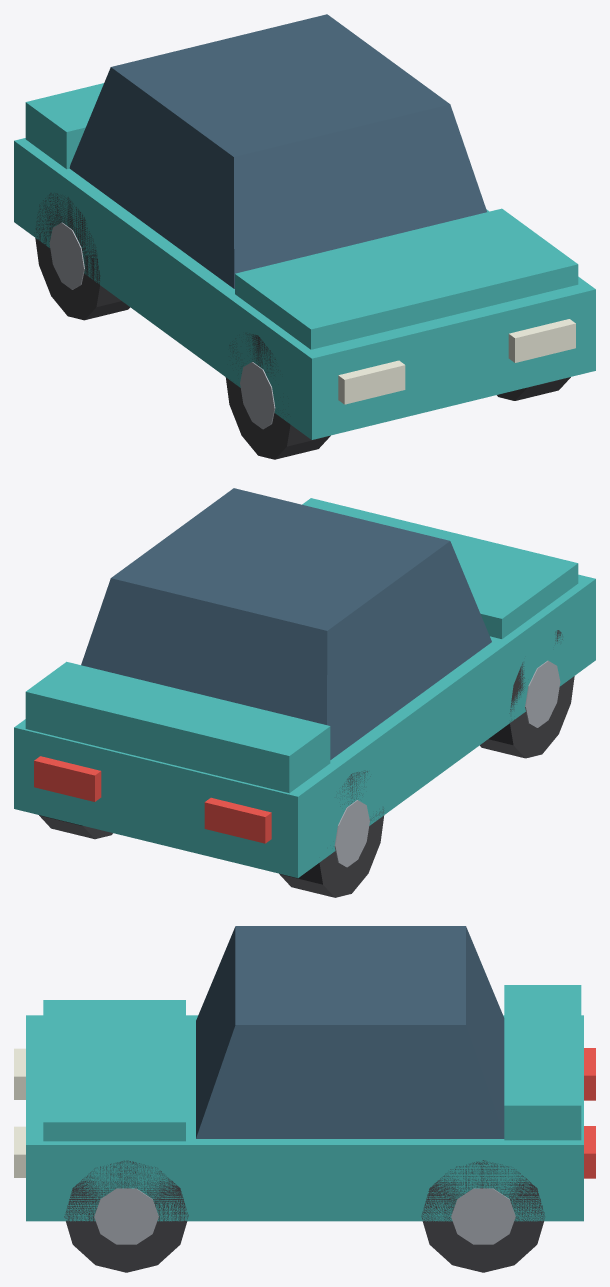
File: traffic_hatchback_teal.glb
The picture shows the model from 3 angles, top to bottom: view 1: azimuth 30°, elevation 25°; view 2: azimuth 150°, elevation 25°; view 3: azimuth 270°, elevation 25°; orthographic projection. The views are drawn at different scales.
Parts seen in each view (by area): view 1: cabin, lower_body, hood, wheel_L_rear_tire, rear_hatch, wheel_L_front_tire, headlight_-0.50, headlight_+0.50, wheel_L_front_rim, wheel_L_rear_rim, wheel_R_front_tire; view 2: cabin, lower_body, rear_hatch, hood, wheel_L_front_tire, wheel_L_rear_tire, taillight_-0.50, taillight_+0.50, wheel_L_front_rim, wheel_L_rear_rim, wheel_R_rear_tire; view 3: cabin, lower_body, hood, rear_hatch, wheel_R_front_tire, wheel_R_rear_tire, wheel_R_rear_rim, wheel_R_front_rim, taillight_-0.50, taillight_+0.50, headlight_-0.50, headlight_+0.50.
Part boxes in pixels (left/top/right/bottom): cabin: left=69, top=14, right=486, bottom=288; lower_body: left=14, top=138, right=595, bottom=439; hood: left=235, top=208, right=578, bottom=349; wheel_L_rear_tire: left=34, top=193, right=130, bottom=320; rear_hatch: left=25, top=83, right=103, bottom=169; wheel_L_front_tire: left=225, top=333, right=330, bottom=459; headlight_-0.50: left=338, top=360, right=405, bottom=404; headlight_+0.50: left=508, top=319, right=575, bottom=362; wheel_L_front_rim: left=240, top=362, right=275, bottom=429; wheel_L_rear_rim: left=49, top=222, right=84, bottom=289; wheel_R_front_tire: left=497, top=377, right=570, bottom=400; cabin: left=81, top=488, right=491, bottom=759; lower_body: left=14, top=574, right=595, bottom=877; rear_hatch: left=25, top=661, right=330, bottom=793; hood: left=302, top=498, right=578, bottom=638; wheel_L_front_tire: left=480, top=630, right=574, bottom=758; wheel_L_rear_tire: left=279, top=770, right=384, bottom=897; taillight_-0.50: left=204, top=797, right=271, bottom=843; taillight_+0.50: left=34, top=756, right=101, bottom=801; wheel_L_front_rim: left=525, top=660, right=560, bottom=727; wheel_L_rear_rim: left=334, top=800, right=369, bottom=867; wheel_R_rear_tire: left=39, top=815, right=112, bottom=839; cabin: left=196, top=926, right=504, bottom=1138; lower_body: left=26, top=1015, right=583, bottom=1221; hood: left=43, top=1000, right=185, bottom=1141; rear_hatch: left=504, top=985, right=581, bottom=1140; wheel_R_front_tire: left=64, top=1160, right=188, bottom=1272; wheel_R_rear_tire: left=421, top=1160, right=544, bottom=1272; wheel_R_rear_rim: left=451, top=1188, right=515, bottom=1244; wheel_R_front_rim: left=94, top=1188, right=158, bottom=1244; taillight_-0.50: left=584, top=1048, right=595, bottom=1100; taillight_+0.50: left=584, top=1126, right=595, bottom=1178; headlight_-0.50: left=14, top=1048, right=25, bottom=1099; headlight_+0.50: left=14, top=1126, right=25, bottom=1177.
Size of the model in its own units: 1.69 by 1.4 by 3.18.
